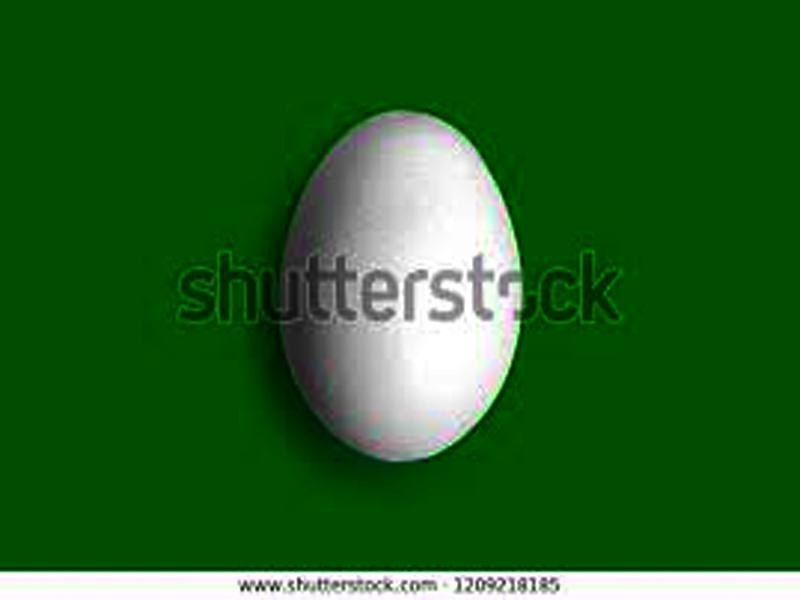Eggs: (277, 109, 520, 459)
